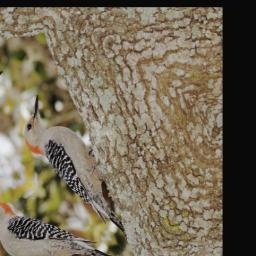Woodpecker: (0, 88, 162, 246)
